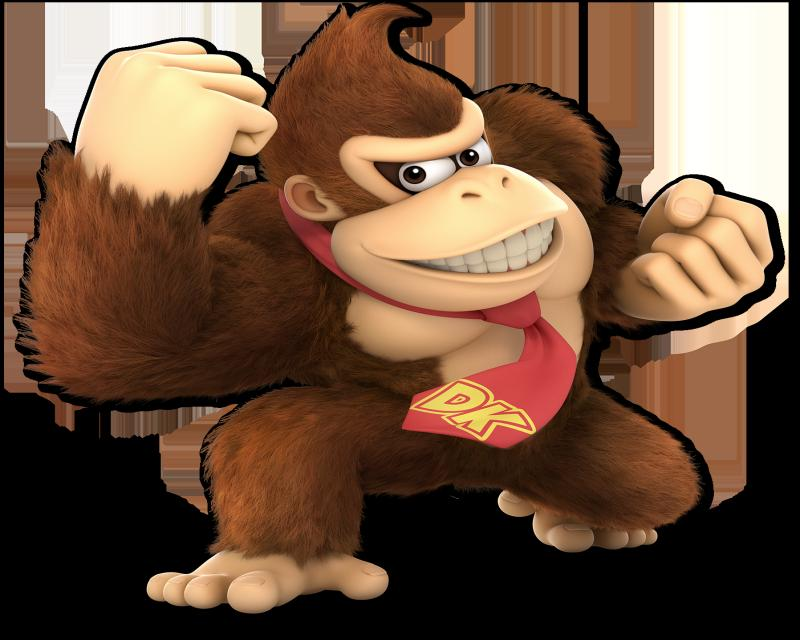dk: (242, 4, 620, 350)
